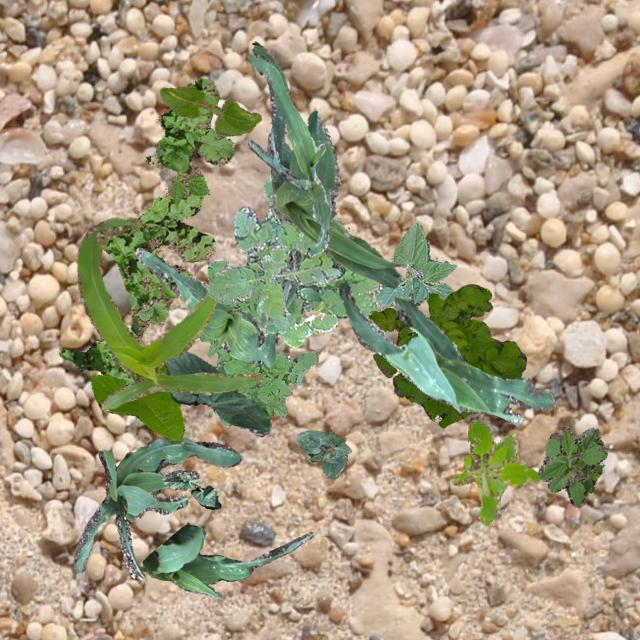crop: (252, 41, 401, 286), (75, 216, 262, 410), (338, 282, 554, 424), (72, 436, 240, 578), (134, 247, 300, 366), (247, 54, 331, 255), (142, 522, 312, 598), (164, 350, 270, 436), (88, 362, 184, 439), (376, 222, 454, 306), (158, 86, 260, 136), (296, 428, 350, 478), (160, 471, 220, 508)
weed: (58, 76, 232, 384), (368, 284, 524, 426), (234, 172, 382, 318), (196, 258, 318, 426), (206, 245, 338, 346), (450, 420, 540, 524), (538, 424, 606, 506)
